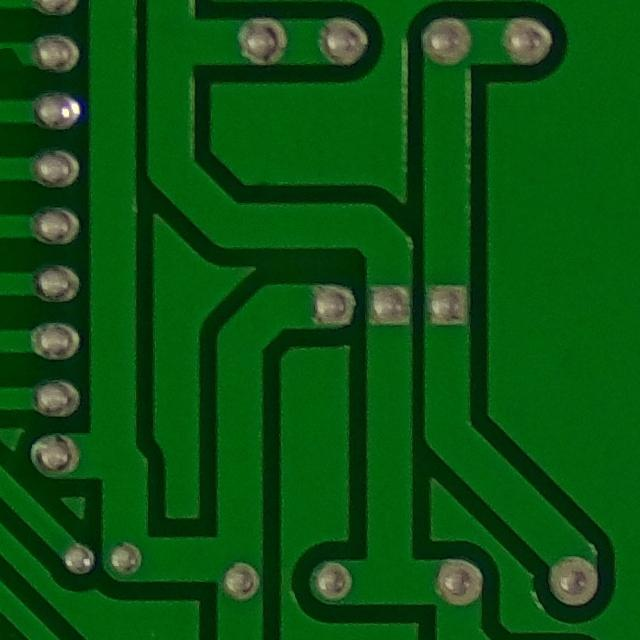mouse_bite: (0, 38, 31, 78)
